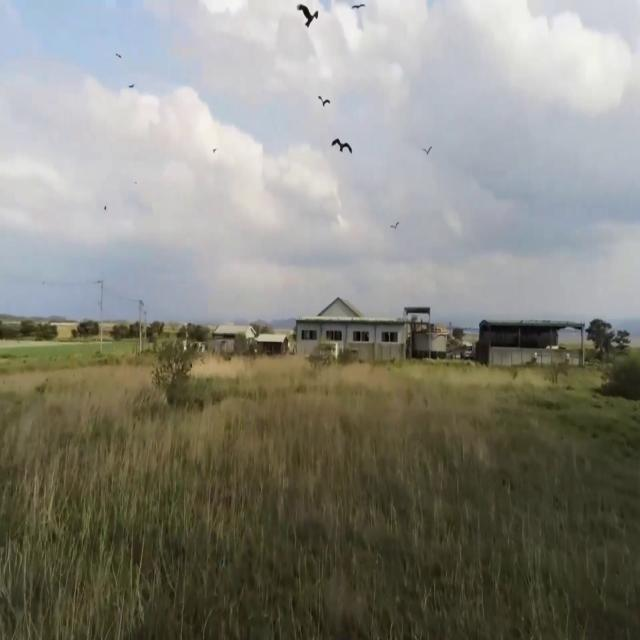bird: (330, 125, 353, 171), (296, 0, 320, 43), (317, 88, 331, 118), (350, 0, 364, 21), (422, 137, 432, 165), (390, 213, 400, 237), (128, 74, 136, 96), (115, 44, 122, 66)
